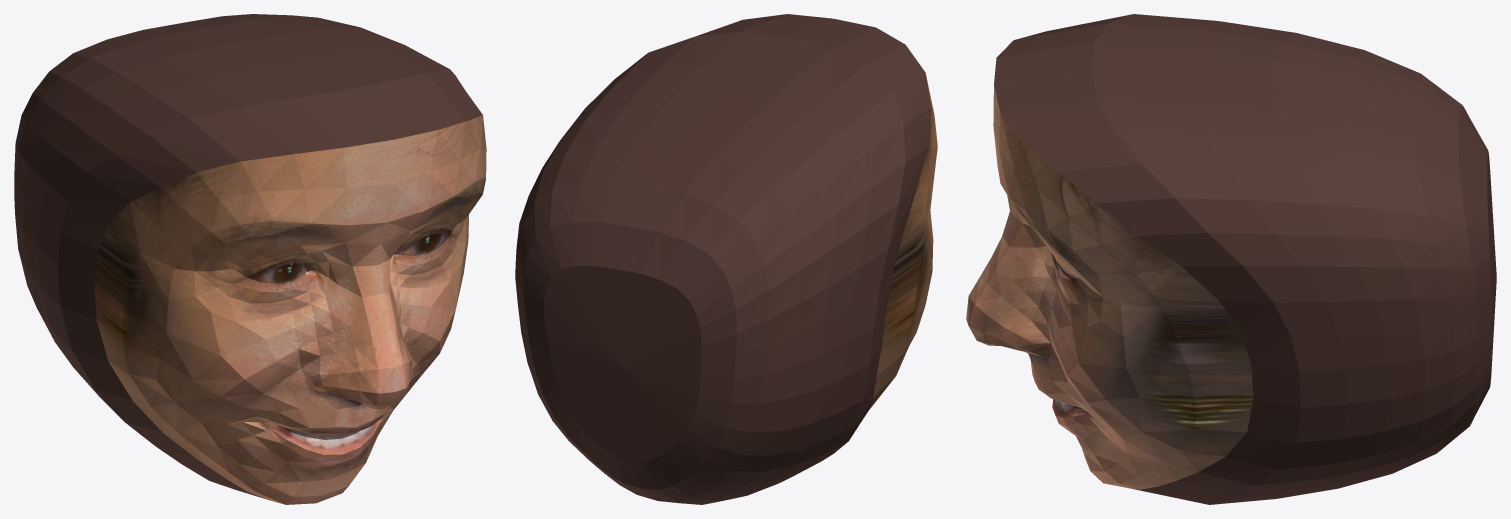
3 views of the same model, side by side, from view 1: azimuth 30°, elevation 25°; view 2: azimuth 150°, elevation 25°; view 3: azimuth 270°, elevation 25° (orthographic). The views are drawn at different scales.
Visible parts, largest first — view 1: face, head; view 2: head, face; view 3: head, face.
Part boxes in pixels (x1=…): face: x1=94, y1=115, x2=486, y2=504; head: x1=14, y1=14, x2=482, y2=500; head: x1=515, y1=14, x2=931, y2=504; face: x1=868, y1=75, x2=937, y2=410; head: x1=994, y1=14, x2=1496, y2=504; face: x1=966, y1=85, x2=1253, y2=489.
Bounding box in the file's own units: 0.1648 × 0.1888 × 0.2081.
Materials: 2 (1 with a texture image).
